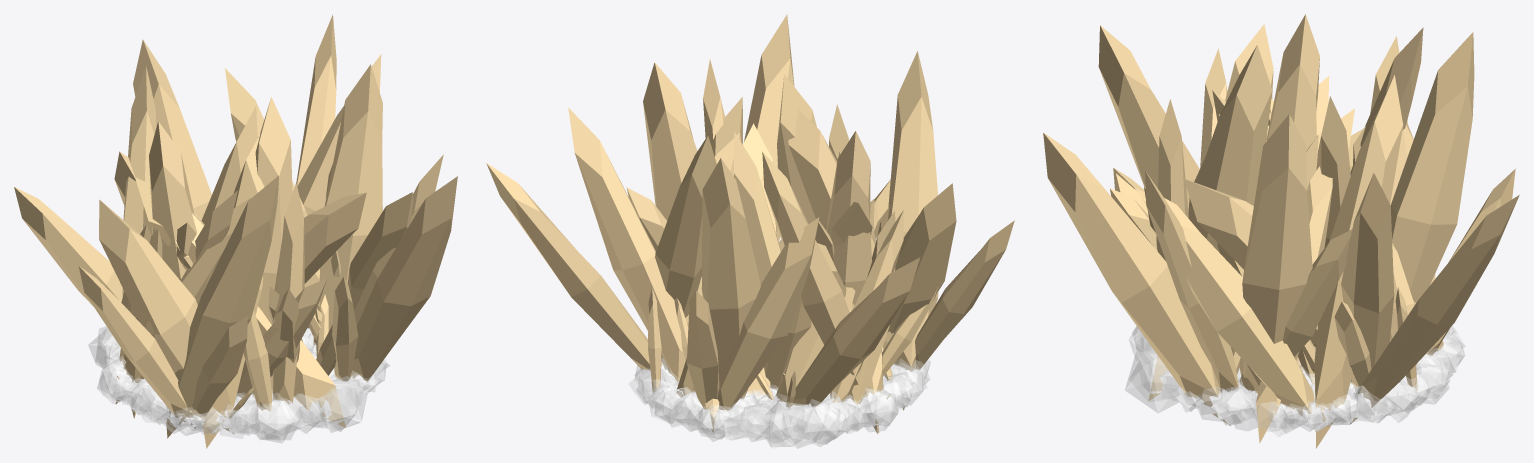
File: hero_crystal.glb
3 renders of one model, left to right at view 1: azimuth 30°, elevation 25°; view 2: azimuth 150°, elevation 25°; view 3: azimuth 270°, elevation 25°, orthographic. The views are drawn at different scales.
Parts seen in each view (by area): view 1: Crystal Formation Yellow Red; view 2: Crystal Formation Yellow Red; view 3: Crystal Formation Yellow Red.
Boxes of the visible parts, <box> form: Crystal Formation Yellow Red: <box>14,14,457,448</box>; Crystal Formation Yellow Red: <box>486,14,1014,448</box>; Crystal Formation Yellow Red: <box>1043,14,1519,448</box>.
Bounding box in the file's own units: 0.3789 × 0.2908 × 0.3568.
